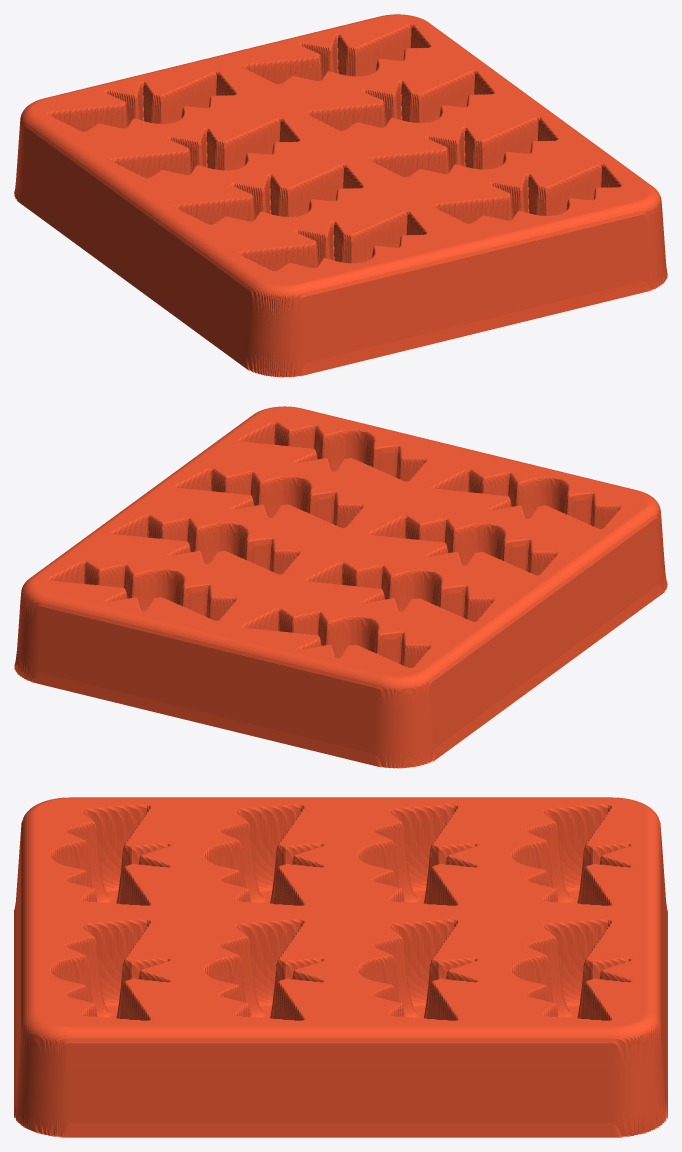
Rendered from mold.glb.
3 renders of one model, top to bottom at view 1: azimuth 30°, elevation 25°; view 2: azimuth 150°, elevation 25°; view 3: azimuth 270°, elevation 25°, orthographic. The views are drawn at different scales.
Parts seen in each view (by area): view 1: geometry_0; view 2: geometry_0; view 3: geometry_0.
Boxes of the visible parts, left/top/right/bottom form: geometry_0: left=14, top=14, right=667, bottom=377; geometry_0: left=14, top=406, right=667, bottom=768; geometry_0: left=14, top=797, right=667, bottom=1137.
Size of the model in its own units: 0.0945 by 0.0182 by 0.1061.
